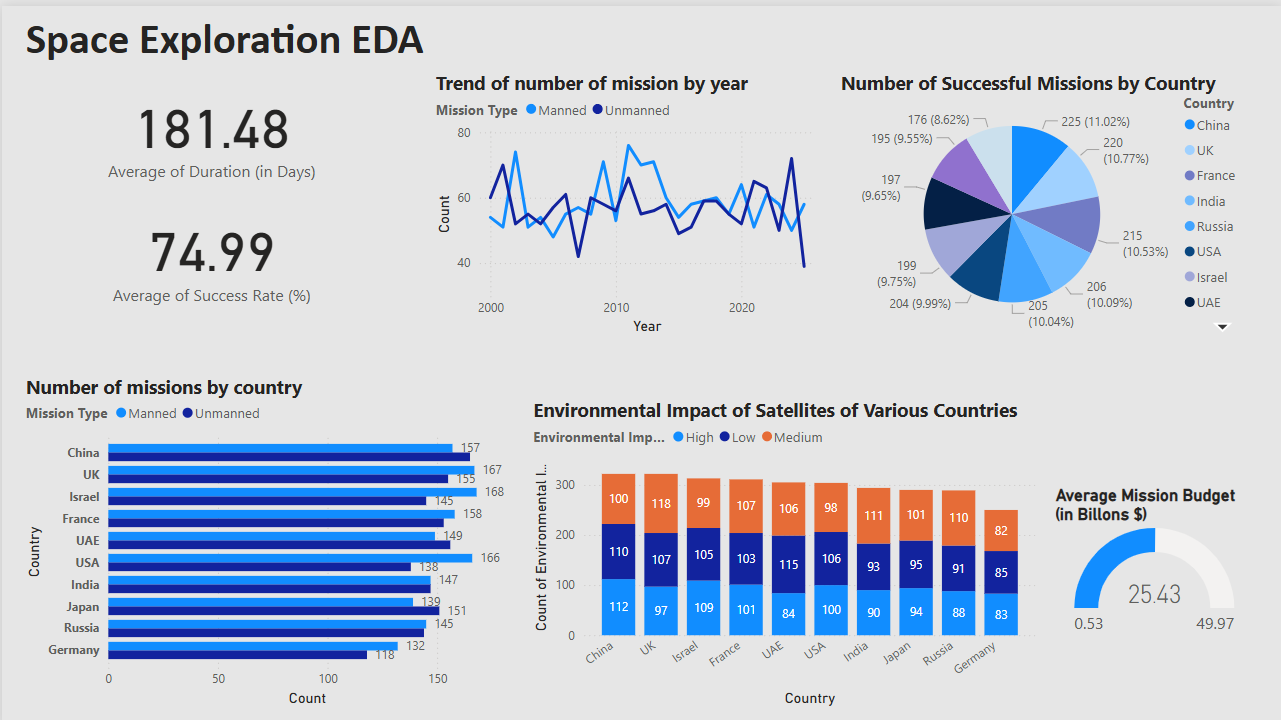

What the dashboard file says about the page in this screenshot:
{"tool":"powerbi","page":{"name":"Page 1","canvas":[1280,720],"ordinal":0},"visuals":[{"type":"clusteredBarChart","title":"Number of missions by country","fields":{"Category":["Global_Space_Exploration_Dataset.Country"],"Y":["Global_Space_Exploration_Dataset.Count"],"Series":["Global_Space_Exploration_Dataset.Mission Type"]},"box":[18.8,367.5,501.2,337.5],"z":0},{"type":"columnChart","title":"Environmental Impact of Satellites of Various Countries","fields":{"Y":["CountNonNull(Global_Space_Exploration_Dataset.Environmental Impact)"],"Category":["Global_Space_Exploration_Dataset.Country"],"Series":["Global_Space_Exploration_Dataset.Environmental Impact"]},"box":[526.2,391.2,512.5,313.8],"z":1000},{"type":"lineChart","title":"Trend of number of mission by year","fields":{"Category":["Global_Space_Exploration_Dataset.Year"],"Y":["Global_Space_Exploration_Dataset.Count"],"Series":["Global_Space_Exploration_Dataset.Mission Type"]},"box":[428.8,63.8,391.2,270],"z":2000},{"type":"pieChart","title":"Number of Successful Missions by Country","fields":{"Y":["Sum(Global_Space_Exploration_Dataset.Success)"],"Category":["Global_Space_Exploration_Dataset.Country"]},"box":[833.8,63.8,428.8,270],"z":3000},{"type":"gauge","title":"Average Mission Budget (in Billons $) ","fields":{"Y":["Avg(Global_Space_Exploration_Dataset.Budget (in Billion $))"],"MinValue":["Min(Global_Space_Exploration_Dataset.Budget (in Billion $))1"],"MaxValue":["Max(Global_Space_Exploration_Dataset.Budget (in Billion $))2"]},"box":[1048.8,478.8,207.5,160],"z":4000},{"type":"card","fields":{"Values":["Avg(Global_Space_Exploration_Dataset.Success Rate (%))"]},"box":[92.5,181.2,235,137.5],"z":5000},{"type":"card","fields":{"Values":["Avg(Global_Space_Exploration_Dataset.Duration (in Days))"]},"box":[28.8,72.5,362.5,108.8],"z":6000},{"type":"textbox","box":[18.8,1.2,535,62.5],"z":6001}]}

Visuals, with their boxes in screenshot pixels (x1, y1, x2, y2), scaled from the page's 1280x720 canvas onto the 1281x720 screenshot:
"Number of missions by country" clusteredBarChart: bbox=[19, 368, 520, 705]
"Environmental Impact of Satellites of Various Countries" columnChart: bbox=[527, 391, 1040, 705]
"Trend of number of mission by year" lineChart: bbox=[429, 64, 821, 334]
"Number of Successful Missions by Country" pieChart: bbox=[834, 64, 1264, 334]
"Average Mission Budget (in Billons $) " gauge: bbox=[1050, 479, 1257, 639]
card - Avg(Global_Space_Exploration_Dataset.Success Rate (%)): bbox=[93, 181, 328, 319]
card - Avg(Global_Space_Exploration_Dataset.Duration (in Days)): bbox=[29, 72, 392, 181]
textbox: bbox=[19, 1, 554, 64]
